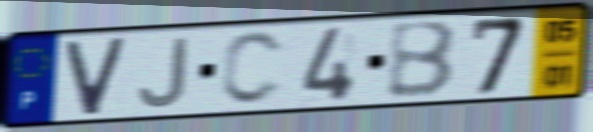4: (299, 23, 358, 105)
7: (468, 15, 527, 97)
B: (385, 18, 460, 101)
C: (217, 29, 288, 109)
J: (135, 34, 192, 111)
V: (61, 34, 131, 118)
